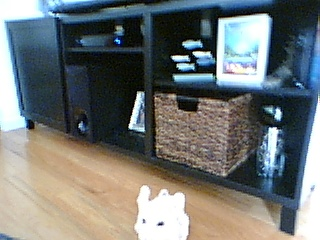piggy: (132, 183, 191, 240)
